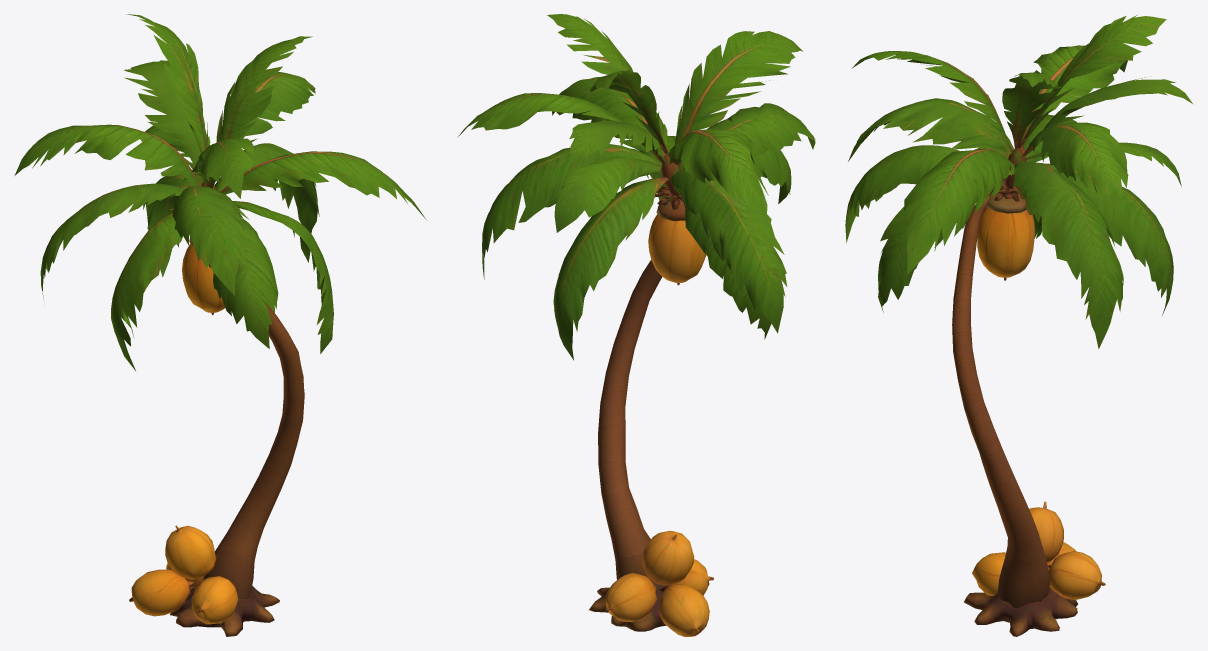
File: tree_palm.glb
The picture shows the model from 3 angles, left to right: view 1: azimuth 30°, elevation 25°; view 2: azimuth 150°, elevation 25°; view 3: azimuth 270°, elevation 25°; orthographic projection. The views are drawn at different scales.
Bounding box in the file's own units: 0.5503 × 0.9546 × 0.5161.
1 material, 1 textured.
